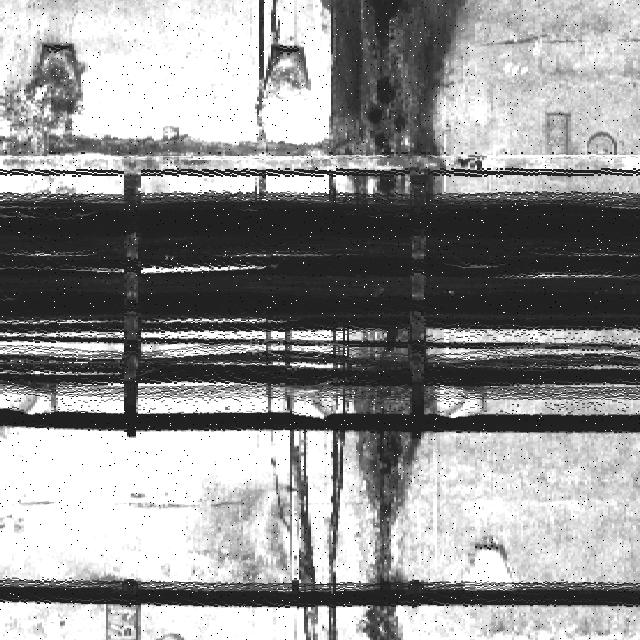leakage: (316, 0, 481, 199), (341, 344, 441, 639)
